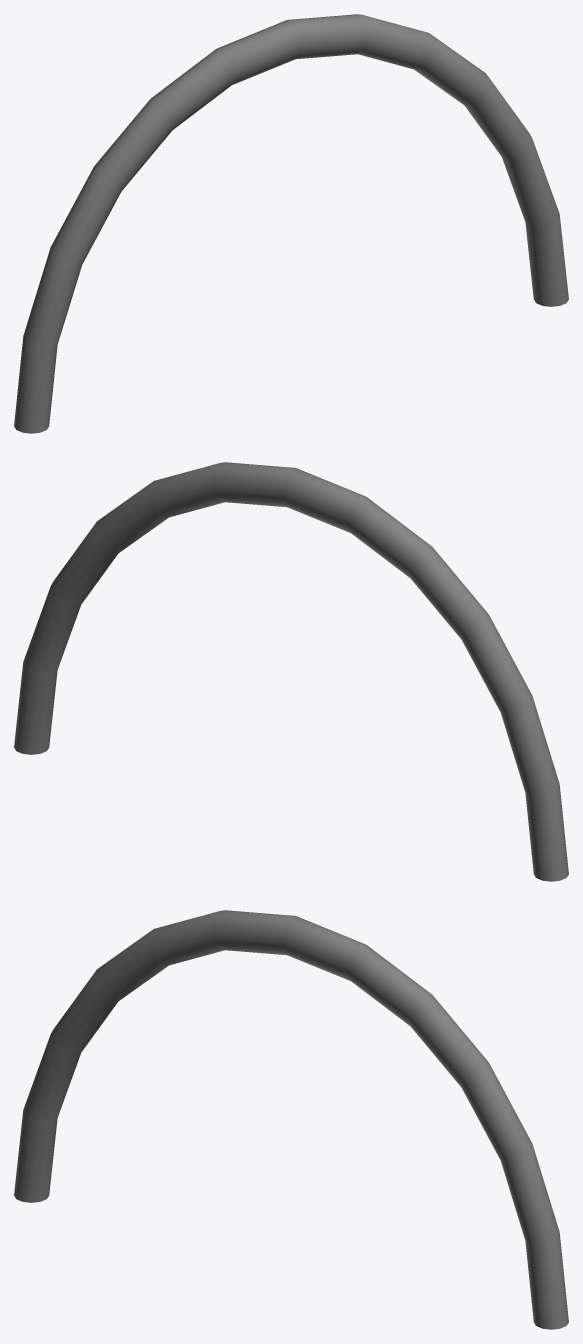
Rendered from Arche.fbx.
3 views of the same model, one above another, from view 1: azimuth 30°, elevation 25°; view 2: azimuth 150°, elevation 25°; view 3: azimuth 330°, elevation 25° (orthographic).
Visible parts, largest first — view 1: Arche; view 2: Arche; view 3: Arche.
Boxes of the visible parts, x1=… form: Arche: x1=14, y1=14, x2=568, y2=433; Arche: x1=14, y1=462, x2=568, y2=881; Arche: x1=14, y1=910, x2=568, y2=1329.
Bounding box in the file's own units: 112 × 66.4 × 6.19.
